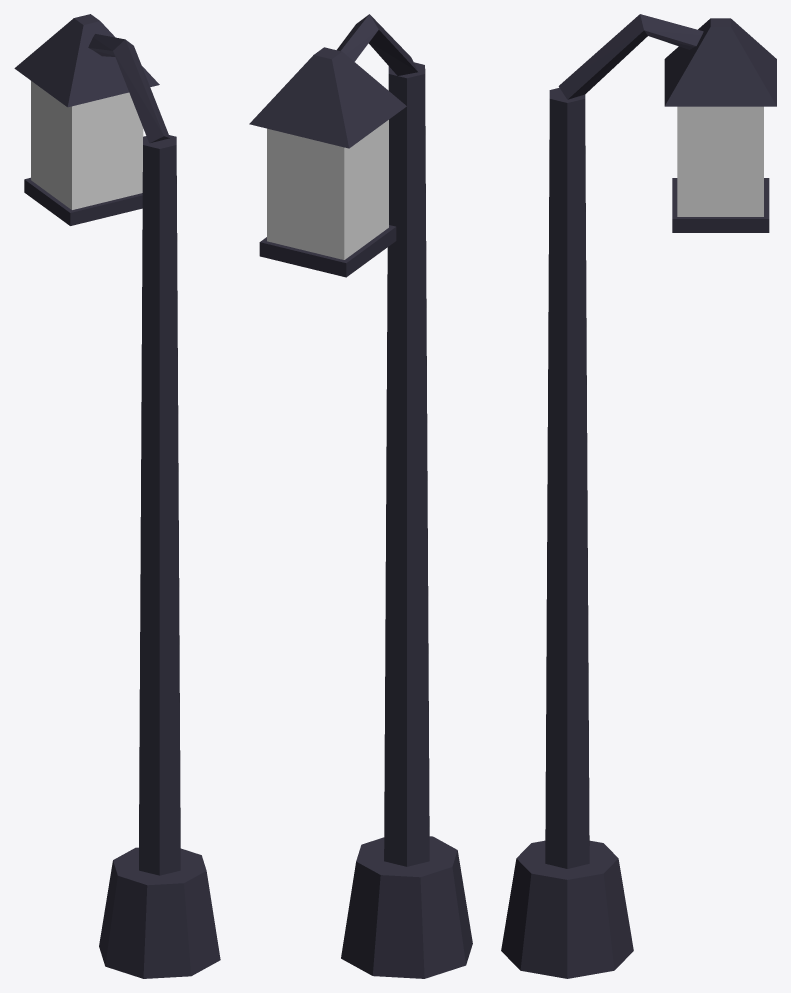
The model's file is Set_LampPost.fbx.
3 views of the same model, side by side, from view 1: azimuth 30°, elevation 25°; view 2: azimuth 150°, elevation 25°; view 3: azimuth 270°, elevation 25° (orthographic). The views are drawn at different scales.
Parts seen in each view (by area): view 1: Set_LampPost; view 2: Set_LampPost; view 3: Set_LampPost.
Part boxes in pixels (<box>): Set_LampPost: <box>14,14,220,978</box>; Set_LampPost: <box>249,14,472,978</box>; Set_LampPost: <box>501,14,776,978</box>.
Size of what is drawn, in the model's own units: 0.52 by 4.05 by 1.08.
Materials: 2 (1 with a texture image).
